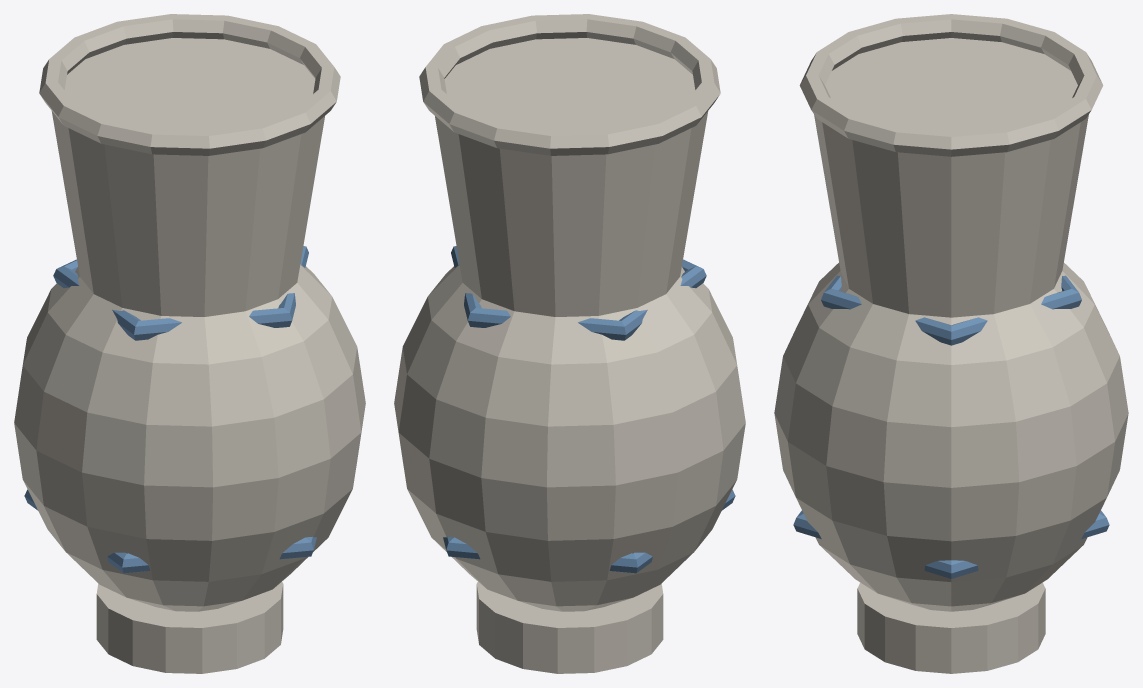
The model's file is vase.glb.
3 views of the same model, side by side, from view 1: azimuth 30°, elevation 25°; view 2: azimuth 150°, elevation 25°; view 3: azimuth 270°, elevation 25° (orthographic).
Visible parts, largest first — view 1: vase; view 2: vase; view 3: vase.
Boxes of the visible parts, x1,y1,x2,y2 form: vase: (14, 14, 365, 673); vase: (394, 14, 745, 673); vase: (774, 14, 1128, 673).
Size of the model in its own units: 0.196 by 0.3411 by 0.196.
